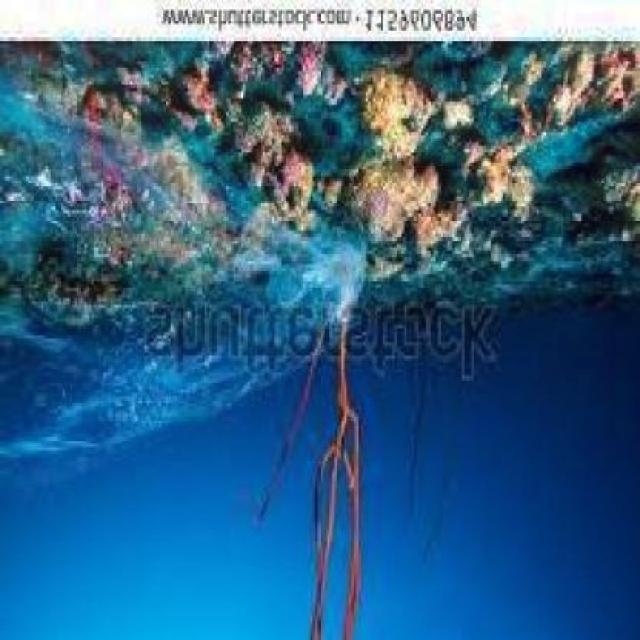pbag: (3, 61, 380, 505)
